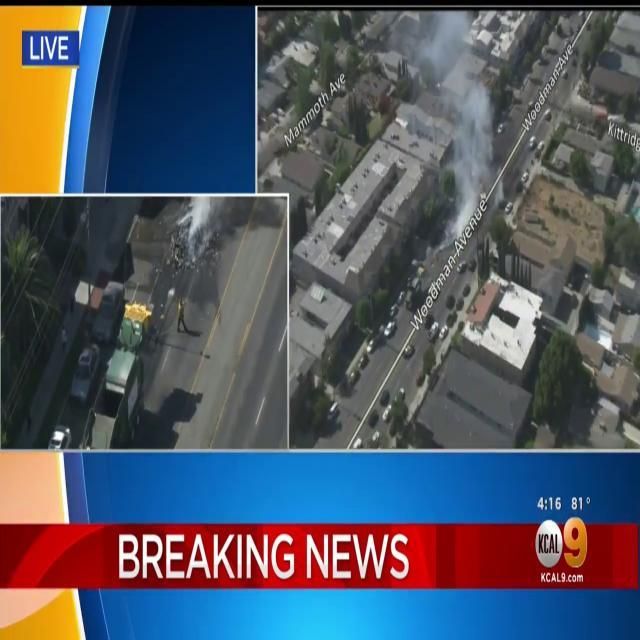Smoke: (429, 15, 501, 244)
